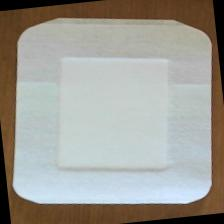Dressing: (1, 2, 224, 224)
